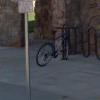Bicycle: (34, 28, 72, 71)
